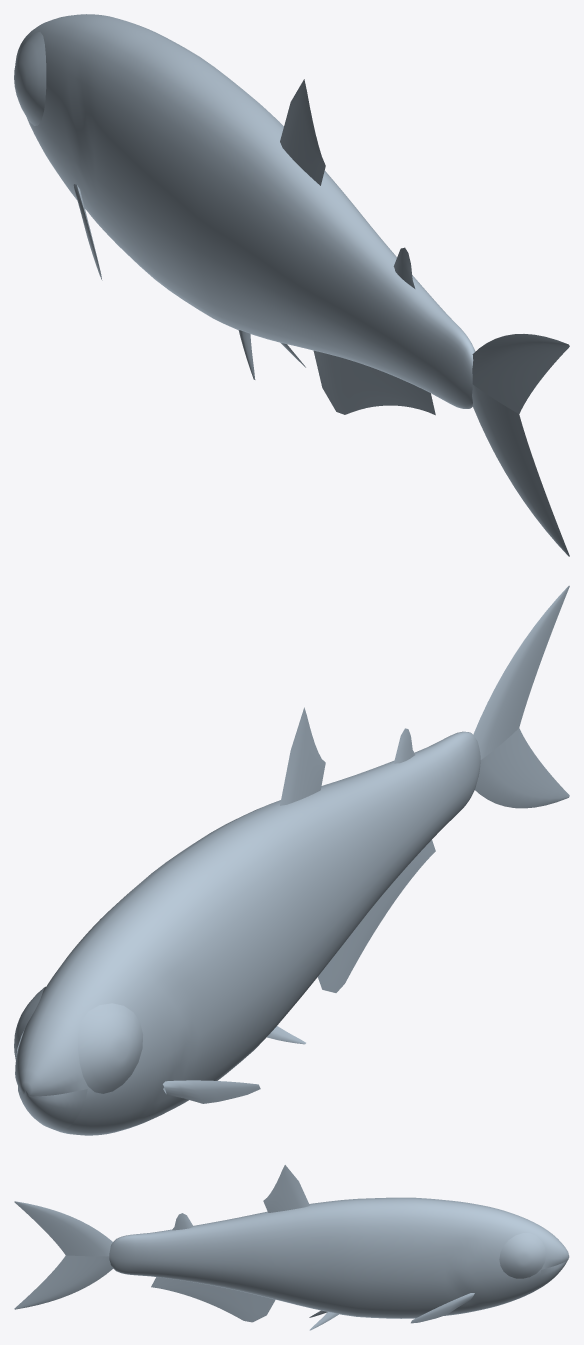
File: neon_tetra.glb
The picture shows the model from 3 angles, top to bottom: view 1: azimuth 30°, elevation 25°; view 2: azimuth 150°, elevation 25°; view 3: azimuth 270°, elevation 25°; orthographic projection. The views are drawn at different scales.
Parts seen in each view (by area): view 1: neon_tetra; view 2: neon_tetra; view 3: neon_tetra.
Boxes of the visible parts, x1,y1,x2,y2 form: neon_tetra: (14, 14, 569, 556); neon_tetra: (14, 585, 569, 1135); neon_tetra: (14, 1165, 569, 1330).
Bounding box in the file's own units: 0.00587 × 0.0111 × 0.0349.
